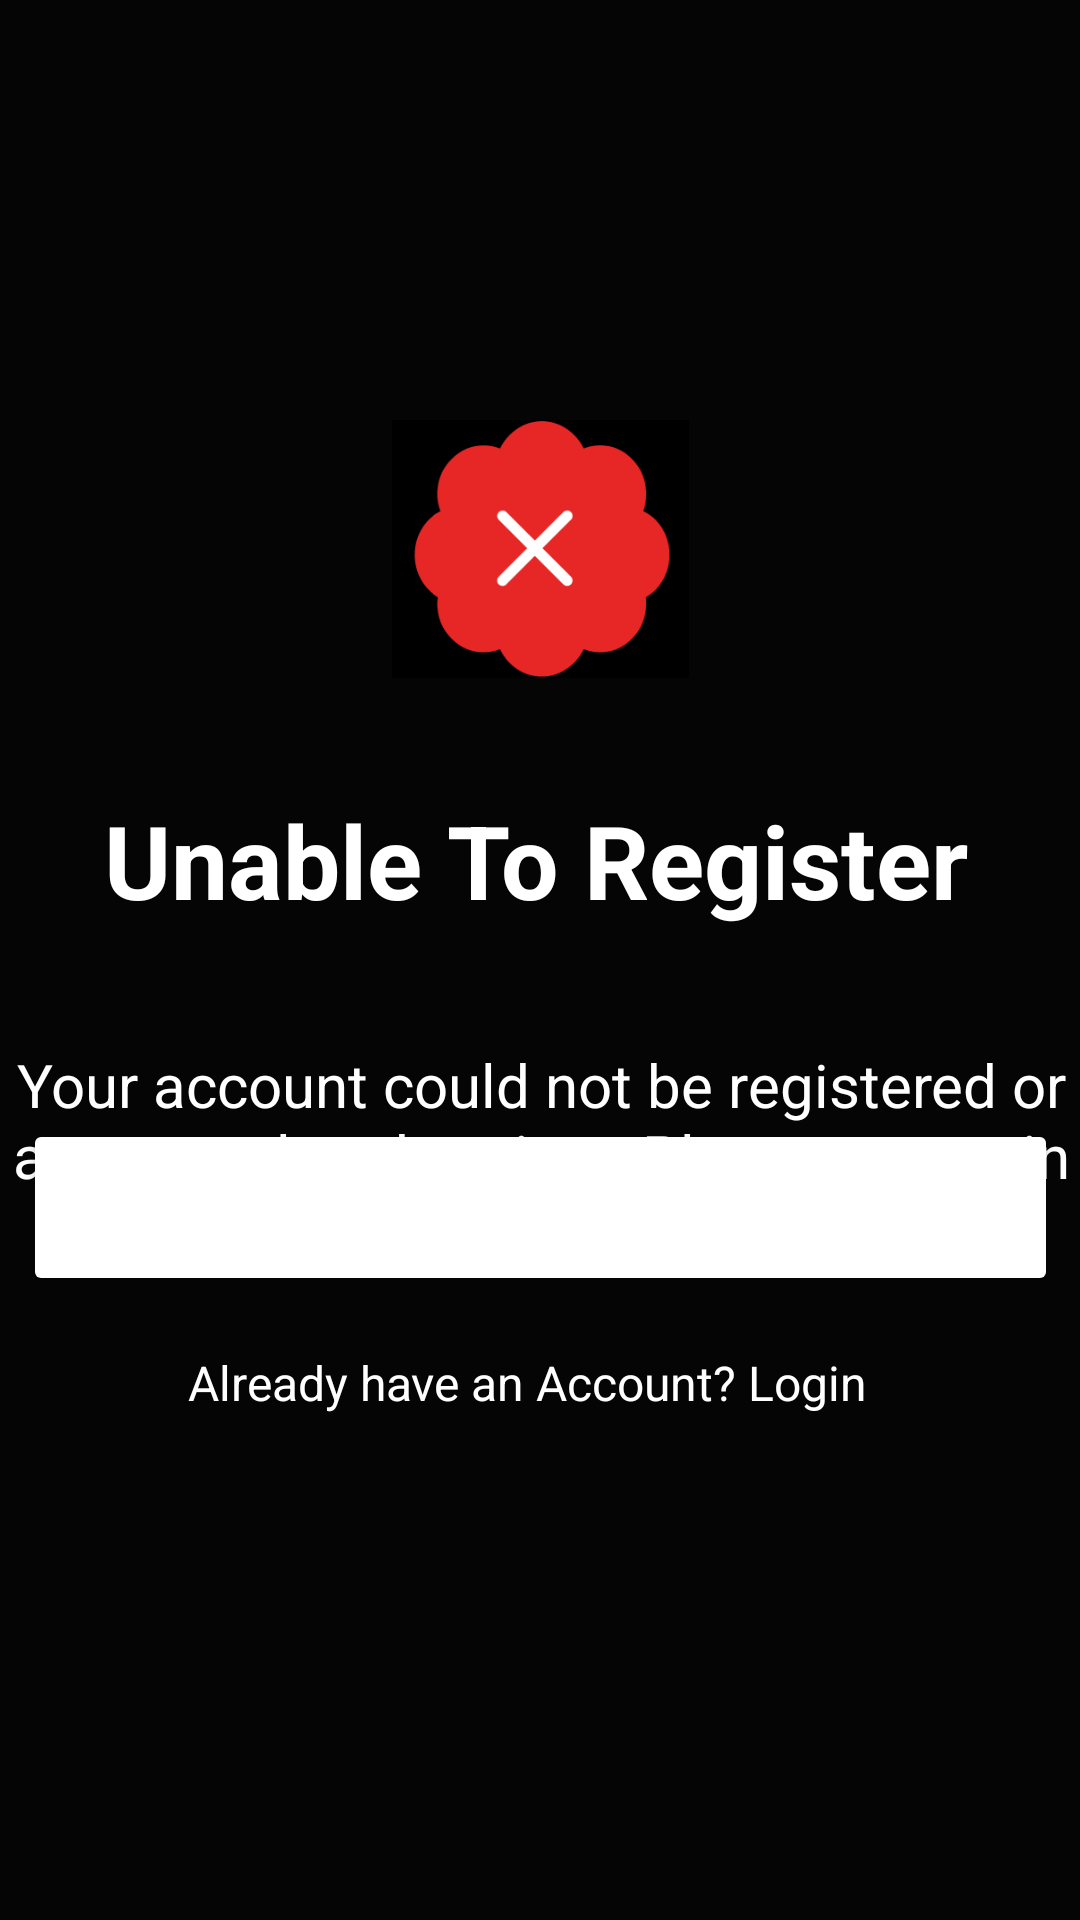

Where icons sit on this 1080×1920 app screen, as (x1, y1, x2, y2):
registerfail: (414, 421, 670, 677)
